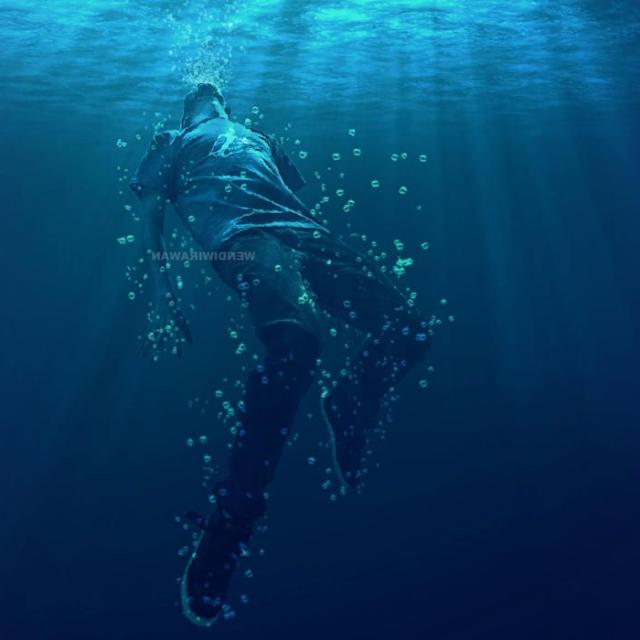drowning: (94, 22, 478, 636)
